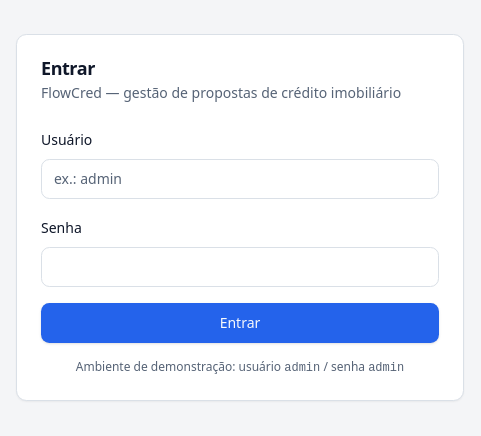
Test: LoginPage › mostra erro com credenciais inválidas
Type "admin" into the field labelled "Usuário" at (240, 178), box [41,158,439,198]
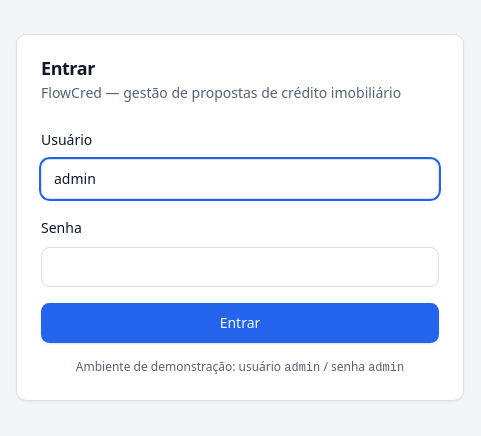
Type "errada" into the password field labelled "Senha" at (240, 266), box [41,246,439,286]
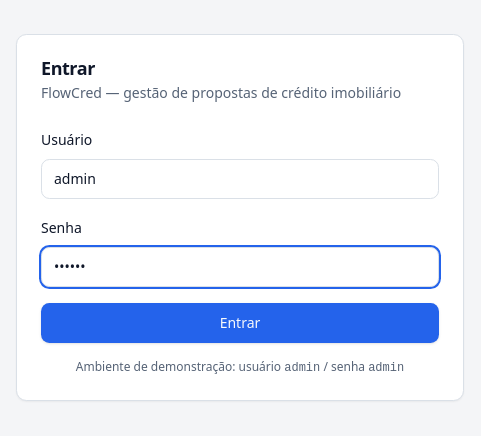
Click the button "Entrar" at (240, 322), box [41,302,439,342]
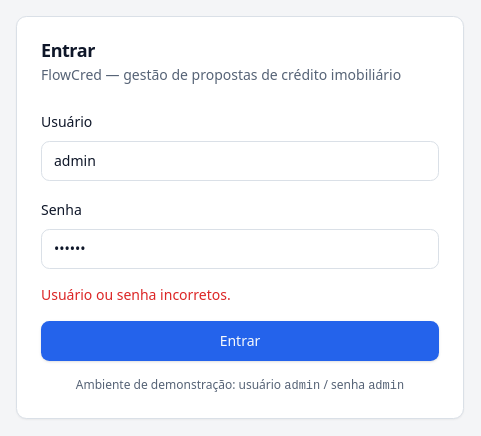
Now the message reads "Usuário ou senha incorretos.", box [41,284,231,304]
